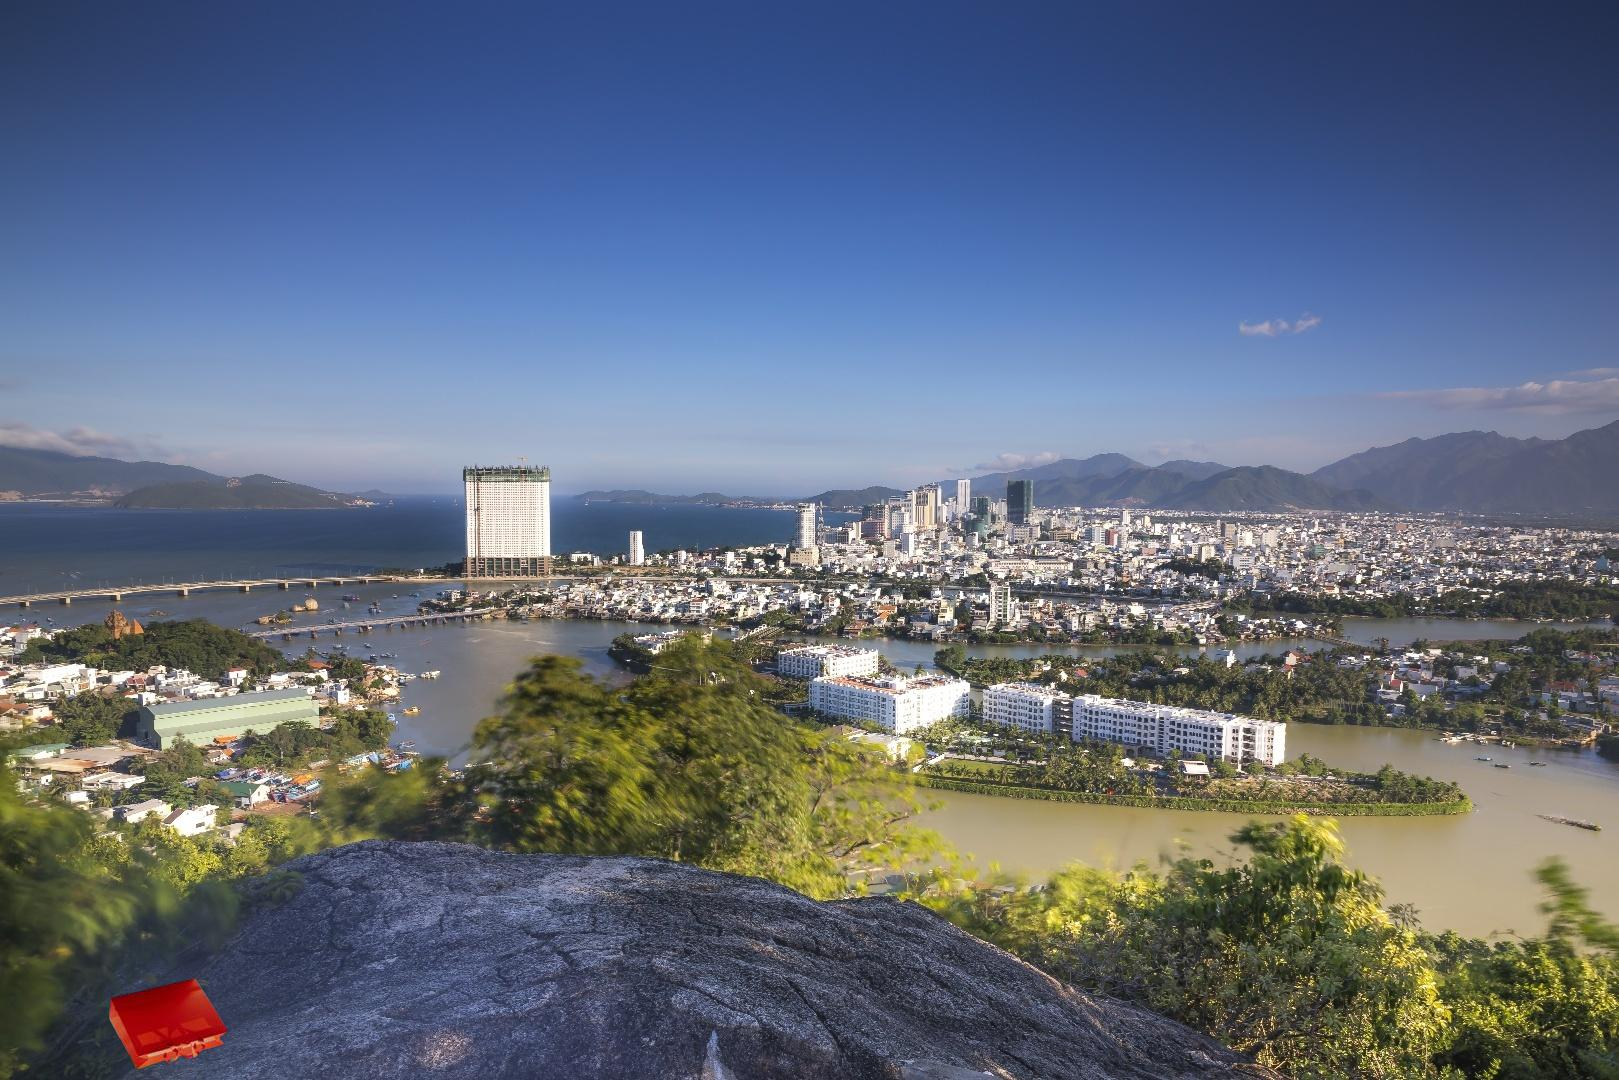paper-bag: (107, 975, 231, 1073)
